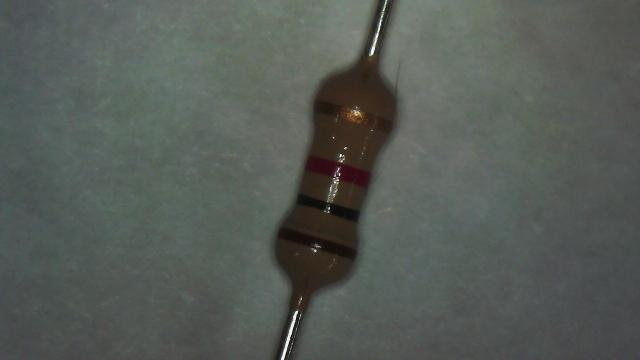black: (296, 194, 359, 221)
brown: (277, 227, 356, 260)
gold: (314, 101, 392, 132)
red: (304, 156, 370, 188)
resistor: (261, 41, 402, 304)
